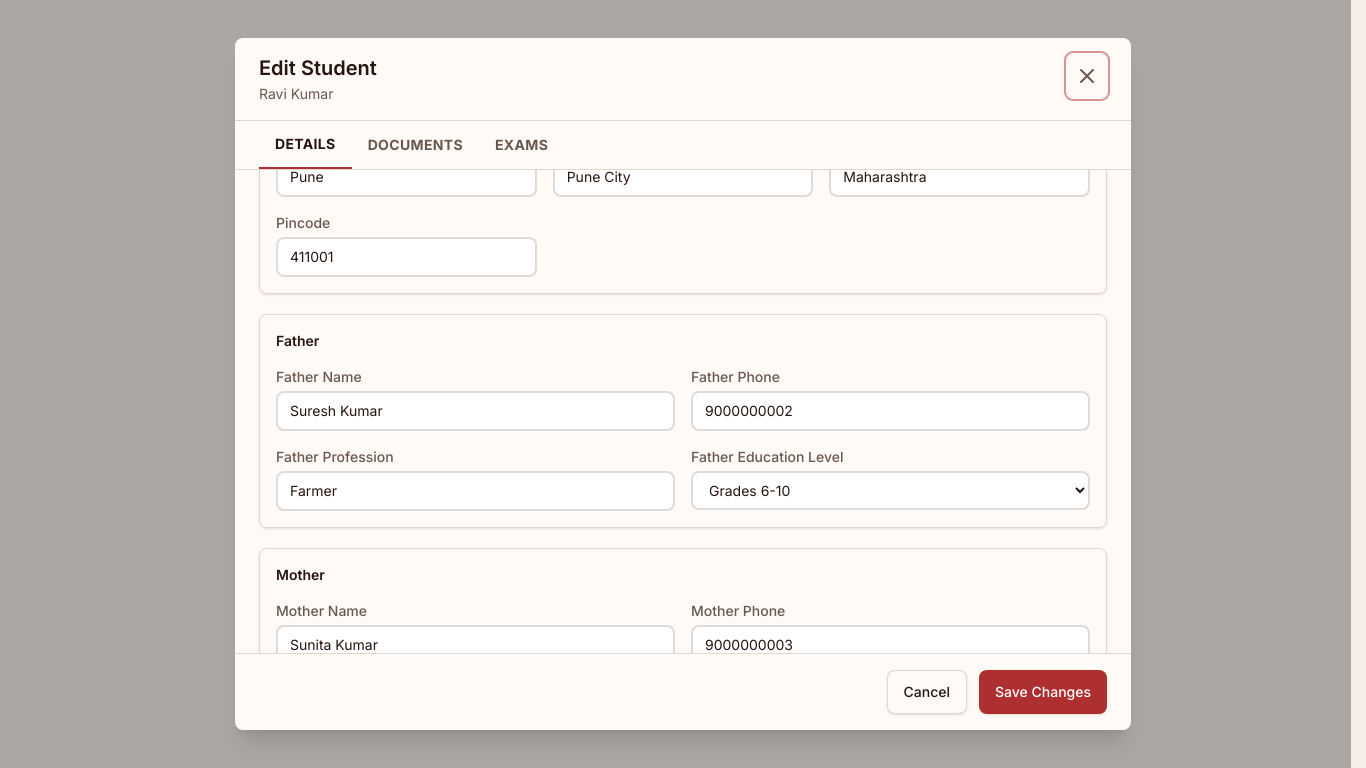
Scenario: EditStudentModal › contact and household details (#431) › shows the server's field error against the field
(page scrolled)
Replace the text in the field labelled "Father Phone" with "98765" at (890, 411), box [691, 391, 1090, 431]
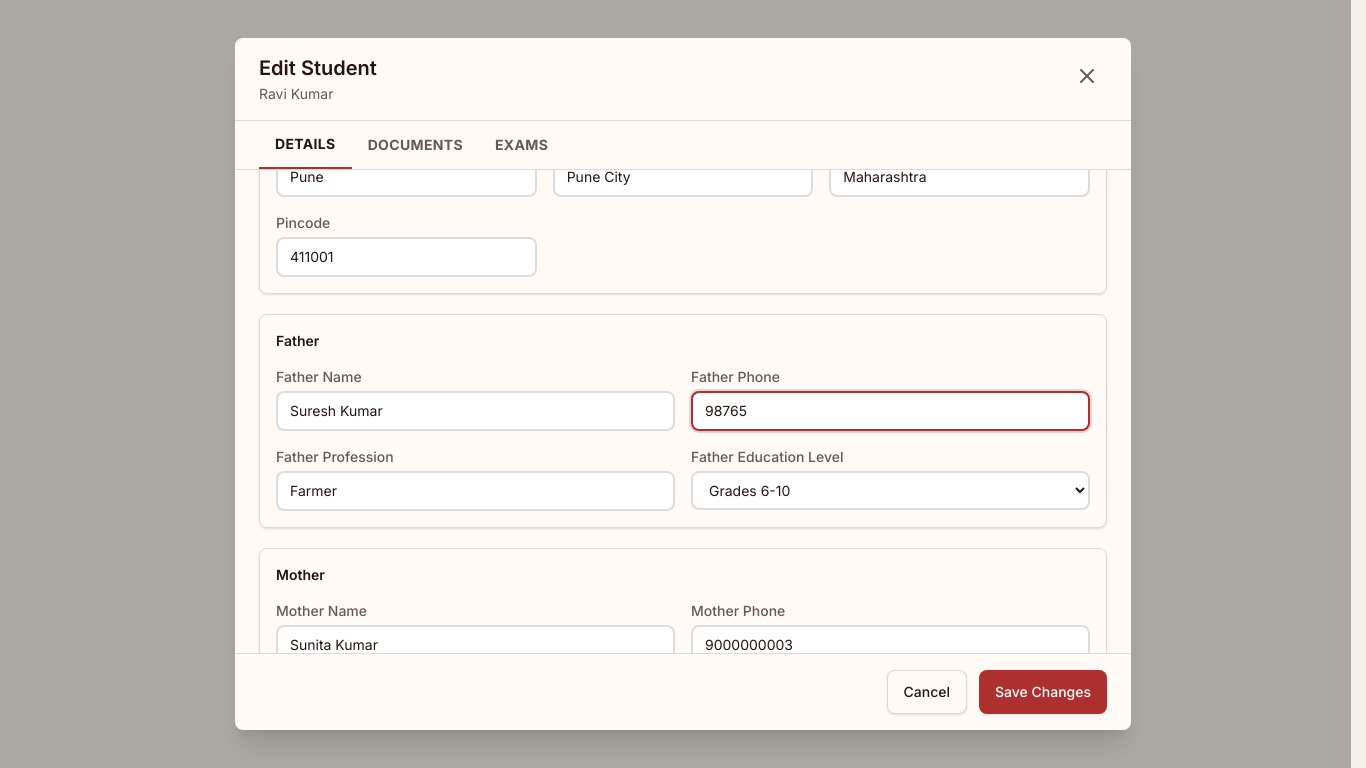
Click the button "Save Changes" at (1043, 692), box [979, 670, 1107, 714]
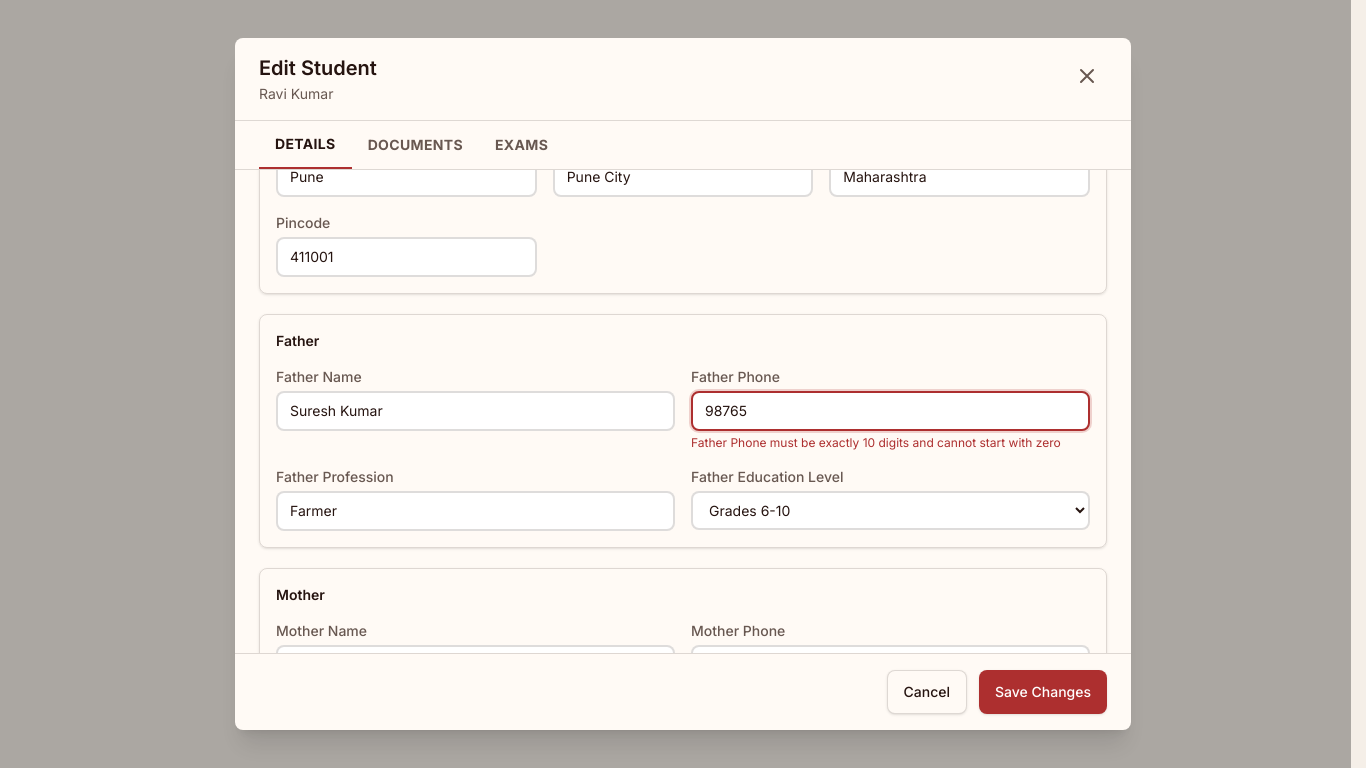
Check: the text "Father Phone must be exactly 10 digits and cannot start with zero" is shown 2 times
